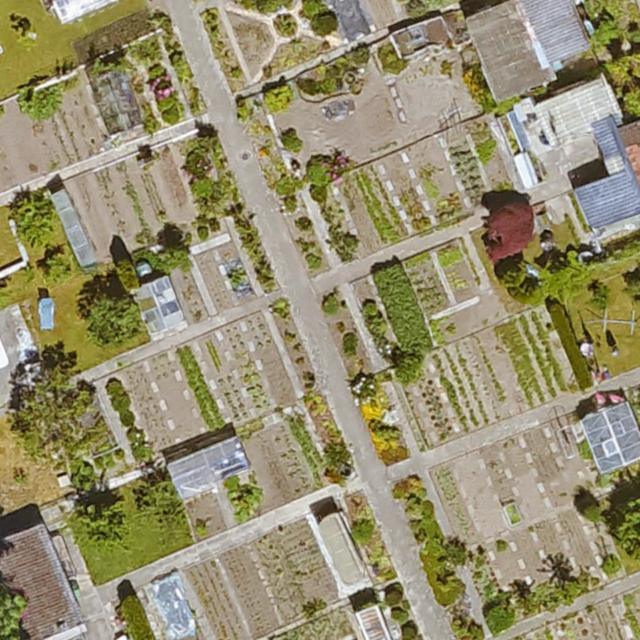tree: (8, 368, 91, 461), (83, 291, 143, 342), (71, 496, 127, 546), (590, 0, 640, 47), (490, 203, 535, 254), (613, 491, 640, 559), (598, 58, 630, 92), (577, 495, 605, 522), (561, 579, 582, 603), (627, 85, 640, 122), (629, 53, 640, 75)
